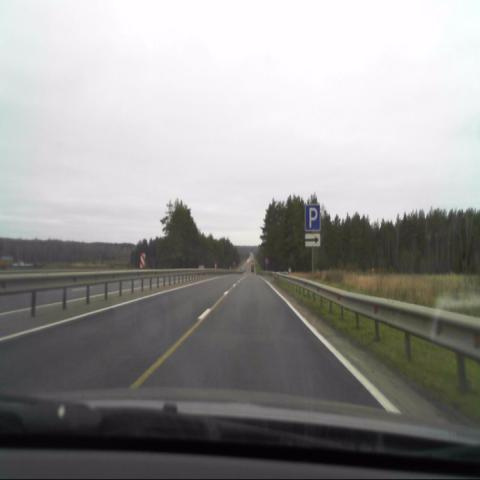6_4: (305, 203, 321, 231)
8_3_1: (304, 233, 320, 248)
